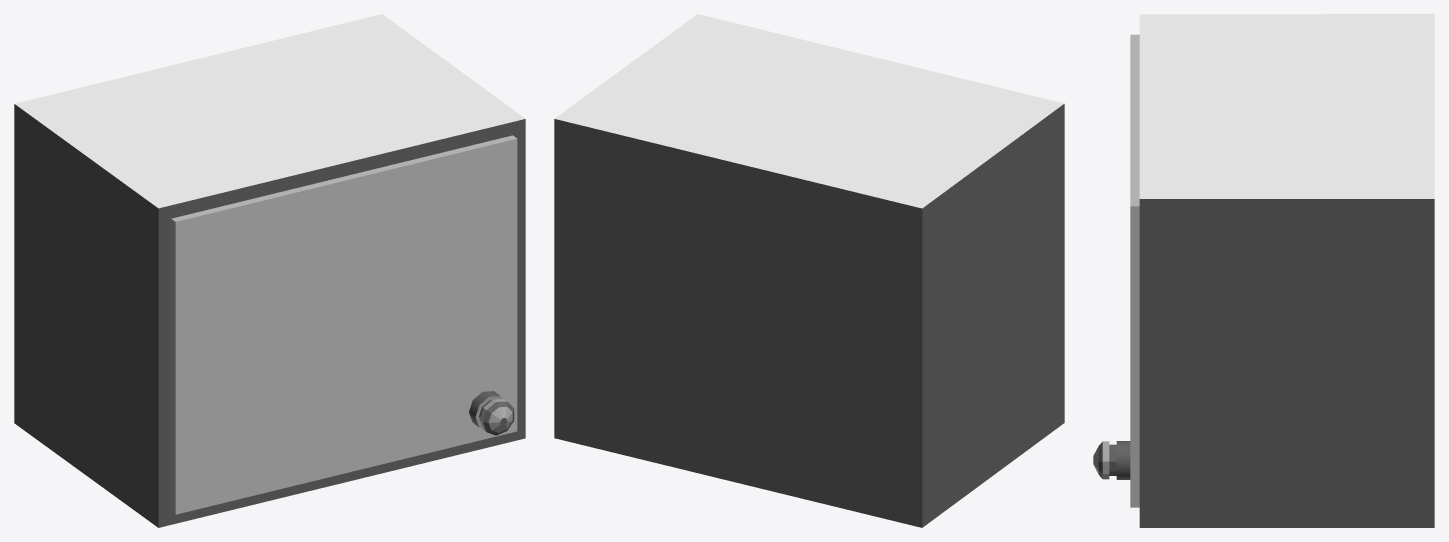
Rendered from Cabinet_Gray_Upper1.fbx.
3 renders of one model, left to right at view 1: azimuth 30°, elevation 25°; view 2: azimuth 150°, elevation 25°; view 3: azimuth 270°, elevation 25°, orthographic. The views are drawn at different scales.
Visible parts, largest first — view 1: Cabinet_Gray_Upper1, Cabinet_Gray_Upper1.001; view 2: Cabinet_Gray_Upper1; view 3: Cabinet_Gray_Upper1, Cabinet_Gray_Upper1.001.
Part boxes in pixels (box(x1,y1,x2,y2)): Cabinet_Gray_Upper1: box(14, 14, 525, 527); Cabinet_Gray_Upper1.001: box(171, 135, 517, 514); Cabinet_Gray_Upper1: box(554, 14, 1064, 527); Cabinet_Gray_Upper1: box(1139, 14, 1434, 527); Cabinet_Gray_Upper1.001: box(1093, 34, 1139, 507).
Bounding box in the file's own units: 100 × 82.98 × 78.05.
